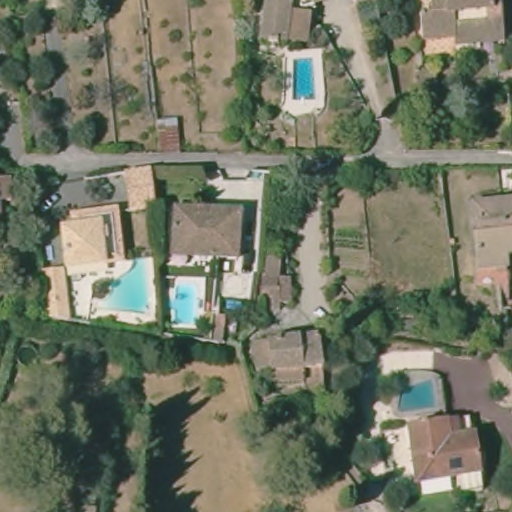pool: (87, 257, 162, 324), (283, 50, 320, 110), (166, 279, 205, 331), (395, 372, 442, 415)
